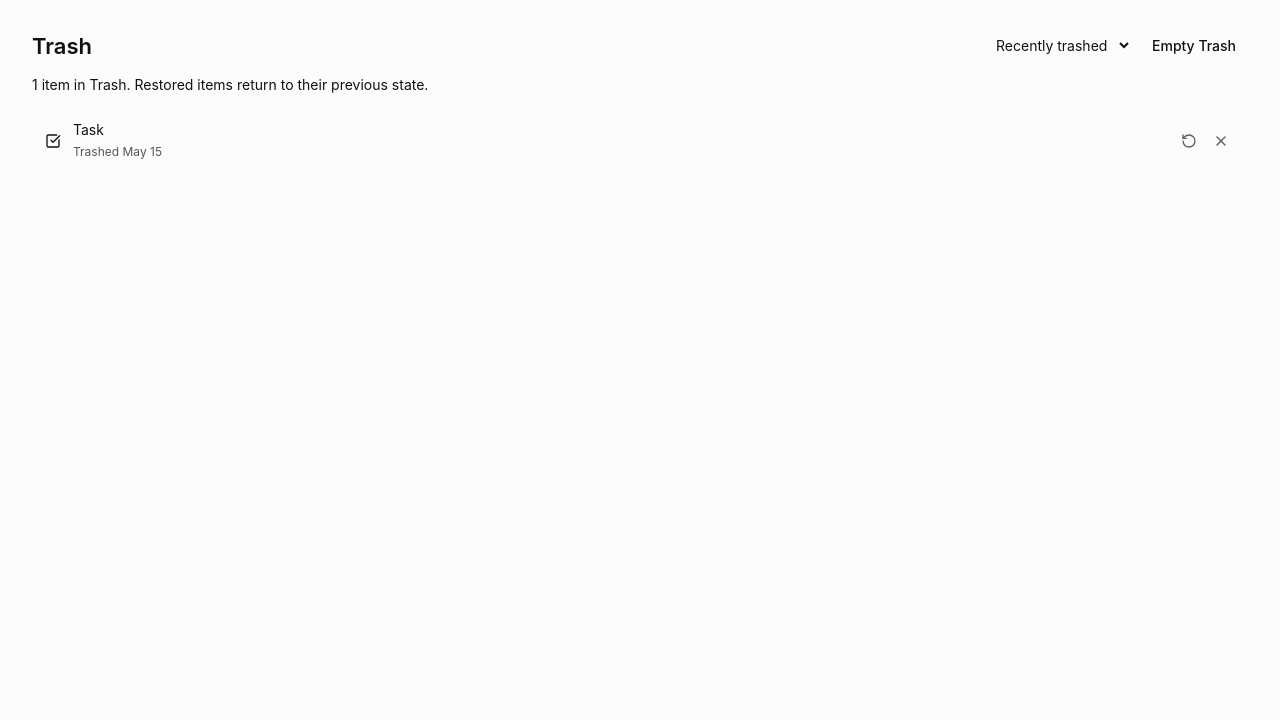
TrashView — populated › clicking Empty Trash button opens confirmation
Click the button "Empty Trash": (1194, 46) left=1140, top=33, right=1248, bottom=58
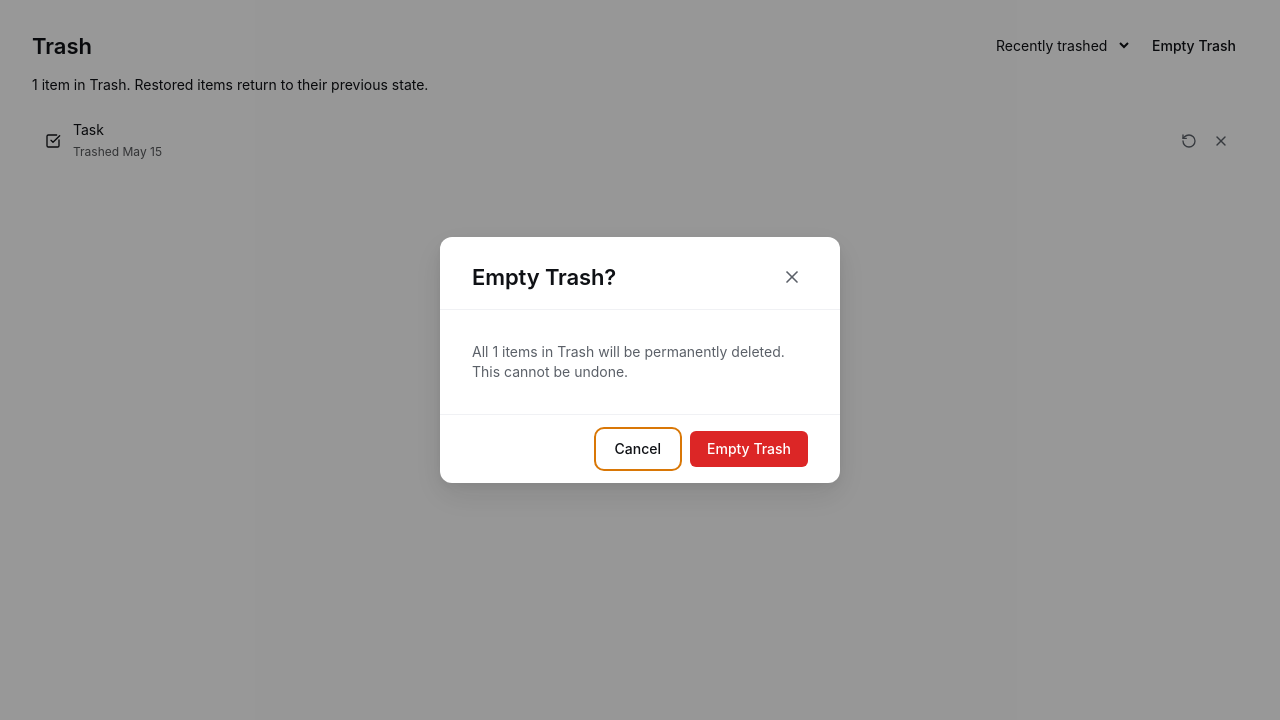
Expected: the heading "Empty Trash?" is shown, left=472, top=262, right=616, bottom=292
